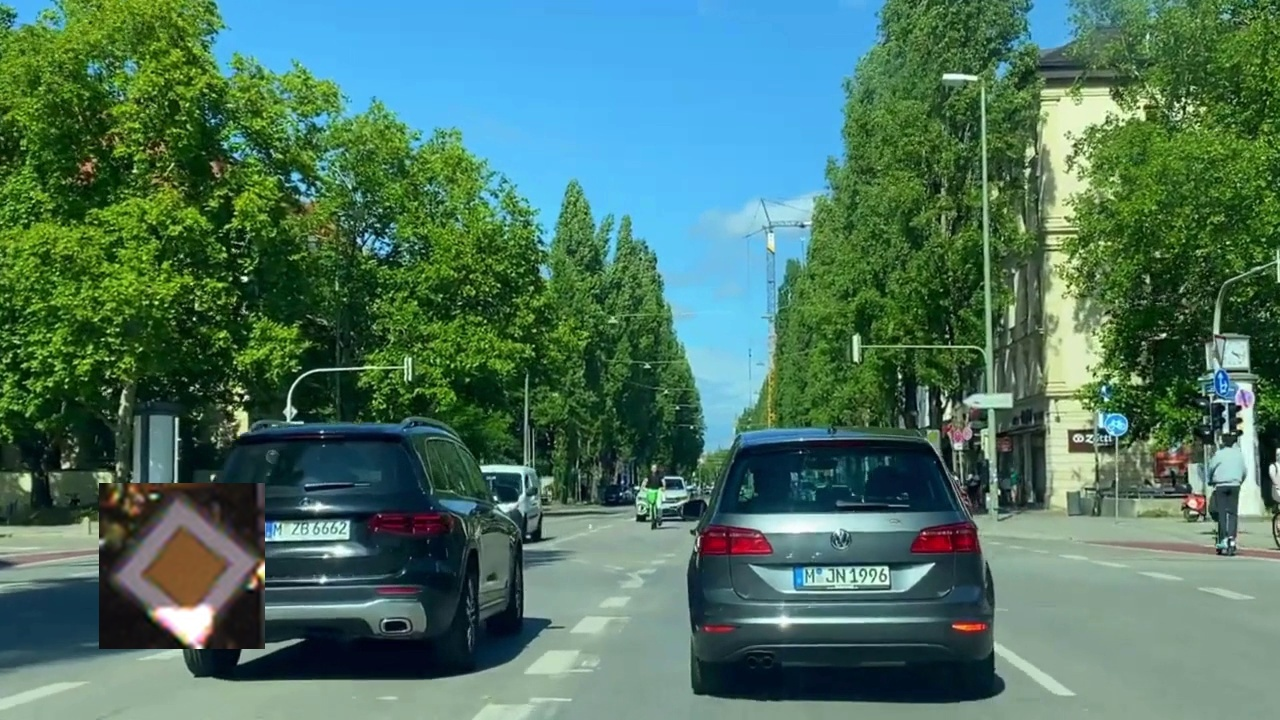Priority road: (99, 483, 265, 649)
